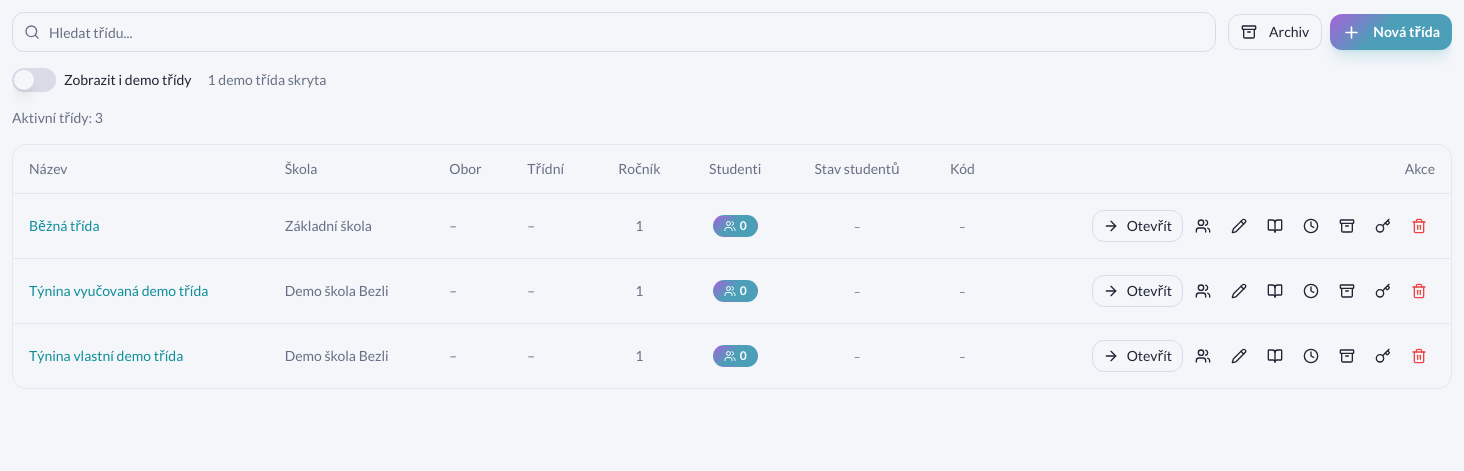
Test: přepínač demo tříd ve správci tříd › ve výchozím stavu skryje jen nepoužívanou demo třídu a přepínač ji odkryje
Expected: the link "Běžná třída" is shown, x1=29 y1=216 x2=100 y2=234
Expected: the link "Týnina vyučovaná demo třída" is shown, x1=29 y1=282 x2=208 y2=298
Click the switch named "Zobrazit i demo třídy". click: click(34, 80)
box: x1=12 y1=68 x2=56 y2=92
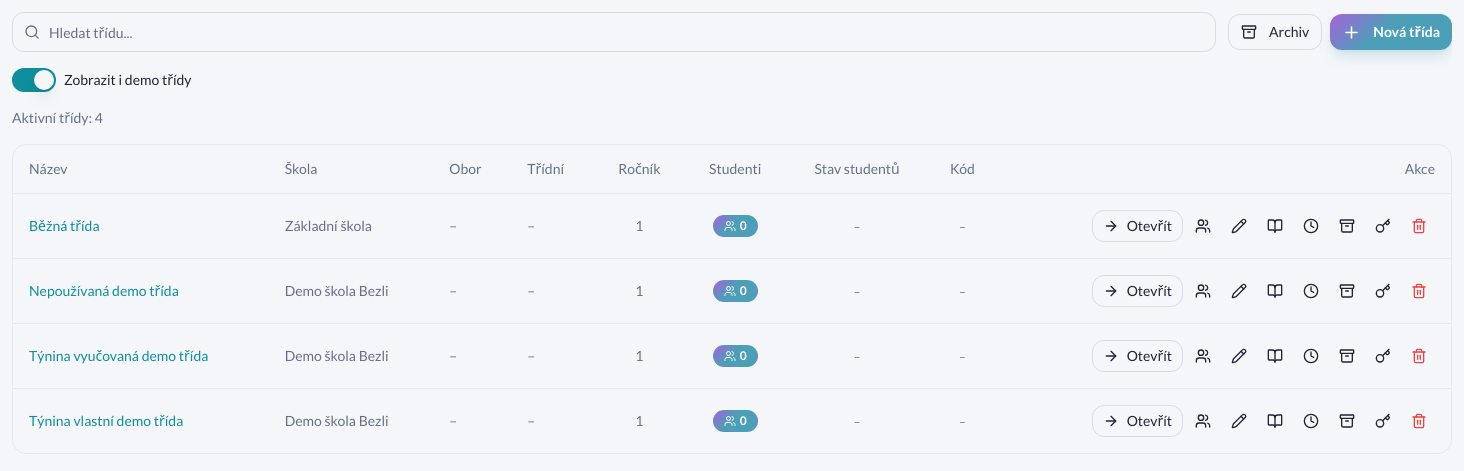
Expected: the link "Nepoužívaná demo třída" is shown, x1=29 y1=282 x2=179 y2=298
Expected: the text "Aktivní třídy: 4" is shown, x1=12 y1=109 x2=103 y2=126
